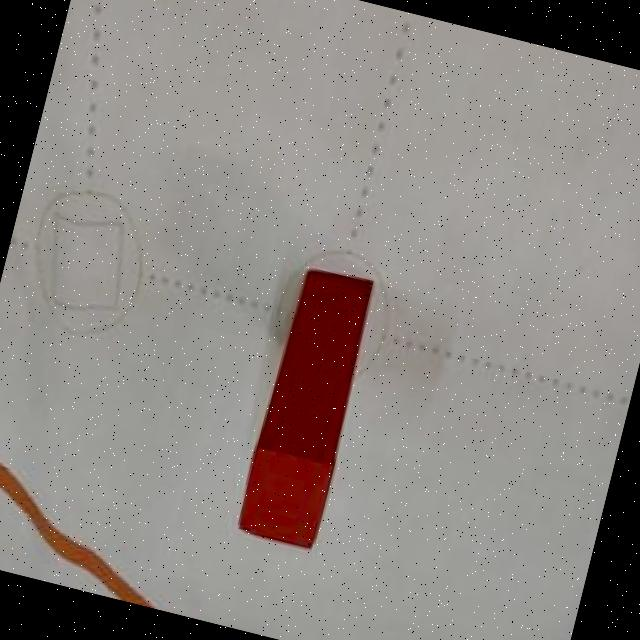redbox: (232, 264, 381, 556)
